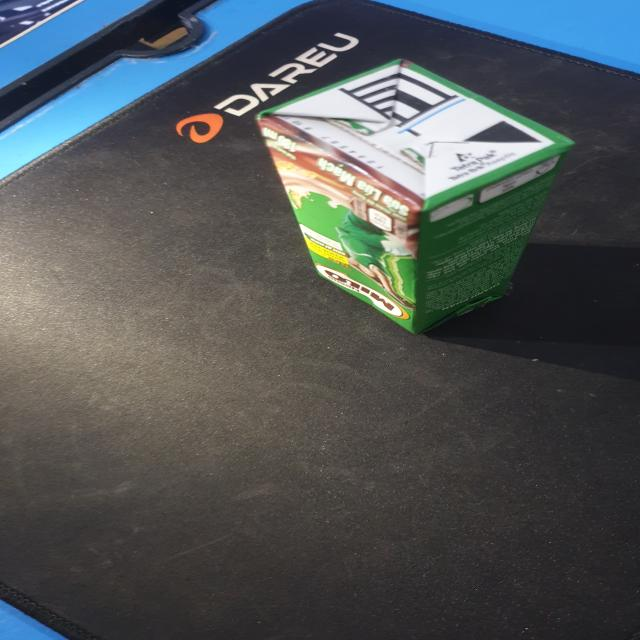Milo: (255, 63, 577, 339)
